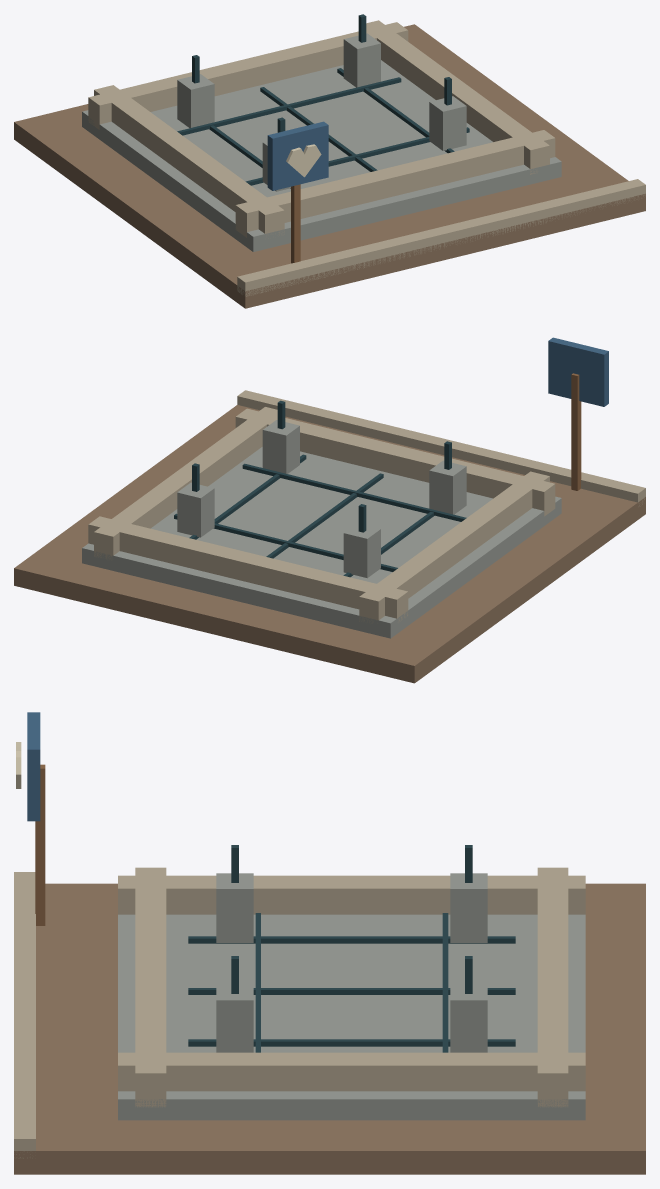
File: hospital-seabreeze-foundation.glb
3 renders of one model, top to bottom at view 1: azimuth 30°, elevation 25°; view 2: azimuth 150°, elevation 25°; view 3: azimuth 270°, elevation 25°, orthographic. The views are drawn at different scales.
Visible parts, largest first — view 1: hospital; view 2: hospital; view 3: hospital.
Part boxes in pixels (x1=…): hospital: x1=14, y1=14, x2=645, y2=308; hospital: x1=14, y1=337, x2=645, y2=683; hospital: x1=14, y1=712, x2=645, y2=1174.
Size of the model in its own units: 2.88 by 1.09 by 2.88.
